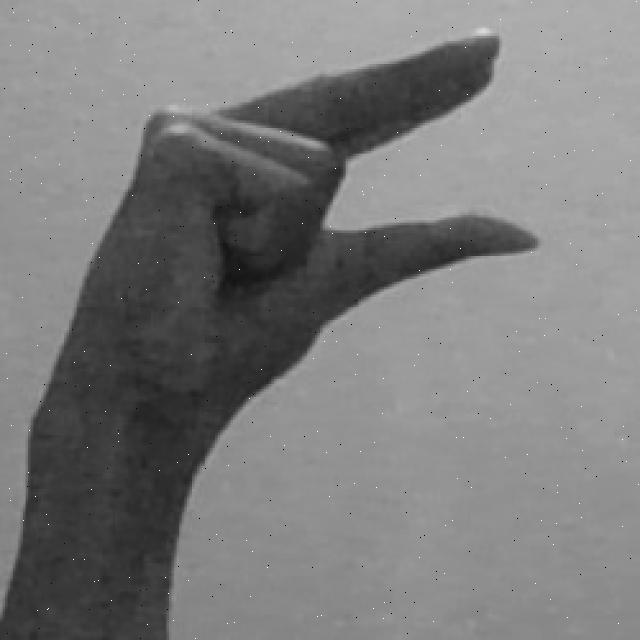G: (2, 28, 542, 634)
